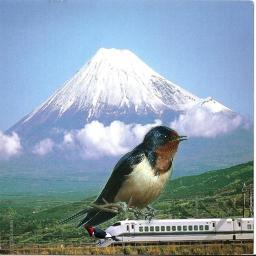Swallow: (56, 125, 188, 229)
Woodpecker: (76, 222, 121, 247)
